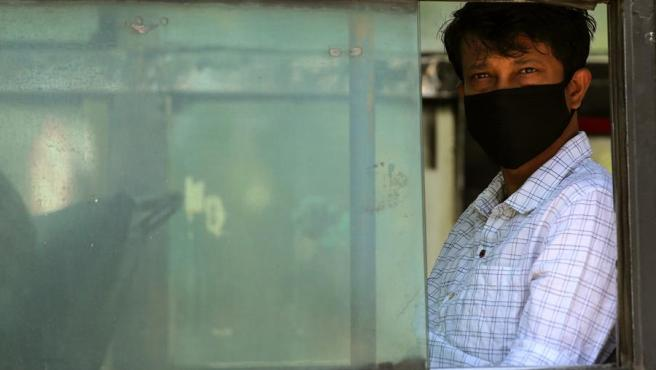with_mask: (444, 14, 593, 169)
